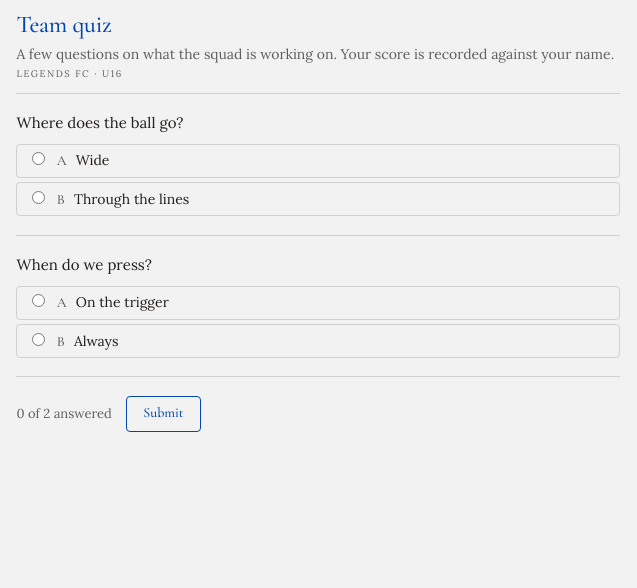
it: MARKING AGAINST THE STORED ANSWERS › marks each question on screen
Click the radio button labelled "B Through the lines" at (38, 197), box top-left (32, 191), bottom-right (45, 204)
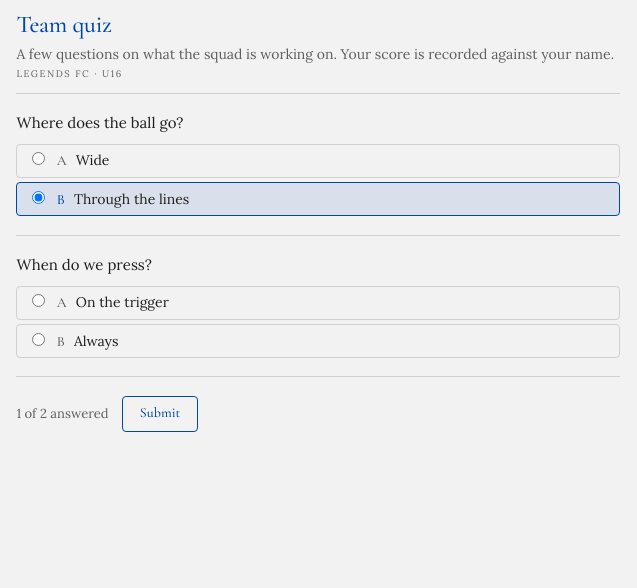
Click the button "Submit" at (160, 414), box top-left (122, 396), bottom-right (198, 432)
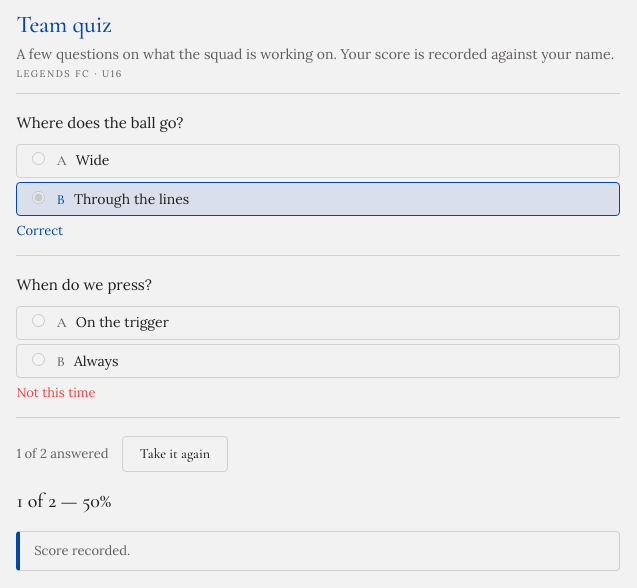
Now the text "Correct" is shown, box top-left (16, 222), bottom-right (63, 239)
Now the text "Not this time" is shown, box top-left (16, 384), bottom-right (96, 401)
